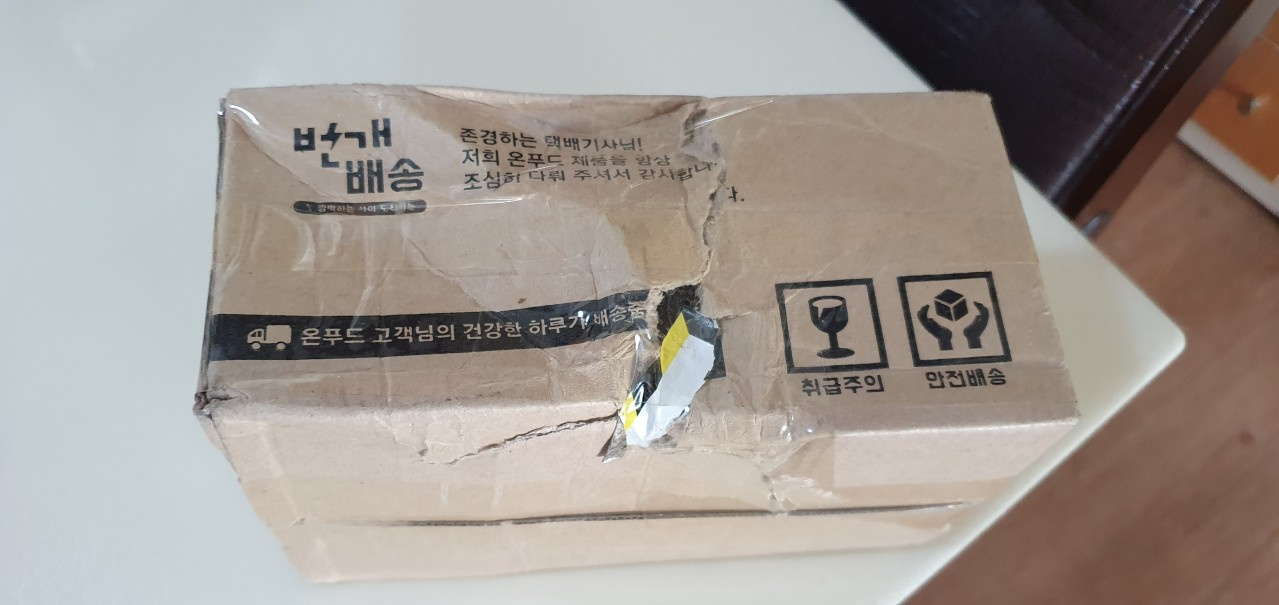damaged package: (567, 91, 854, 521), (228, 93, 564, 324)
